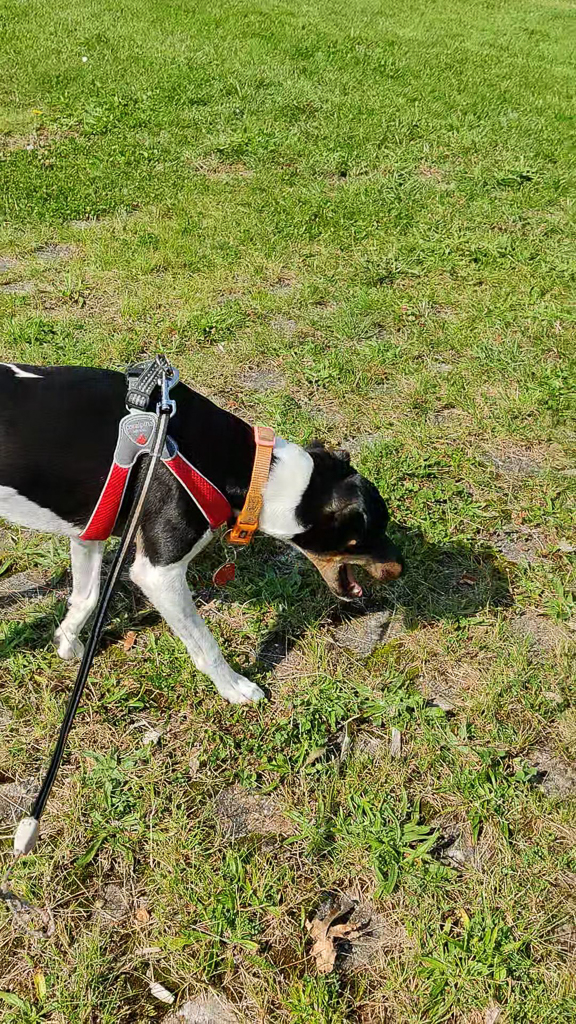Dog: (0, 331, 422, 728)
